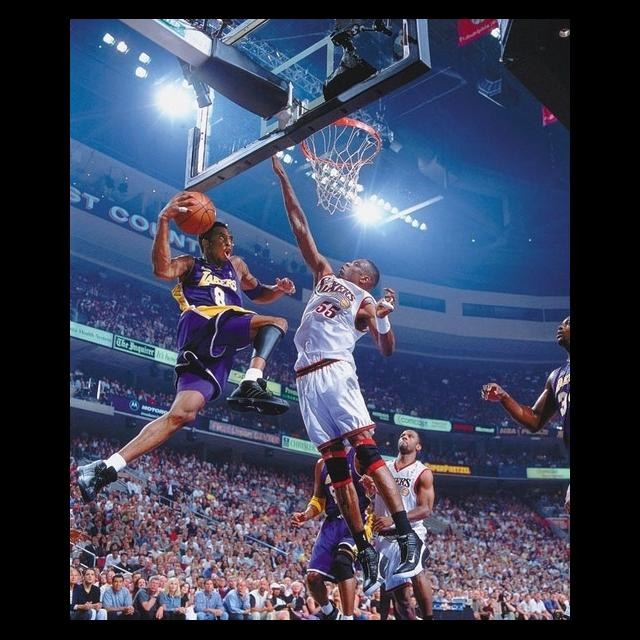basketball: (167, 192, 214, 235)
hoop: (301, 116, 380, 215)
